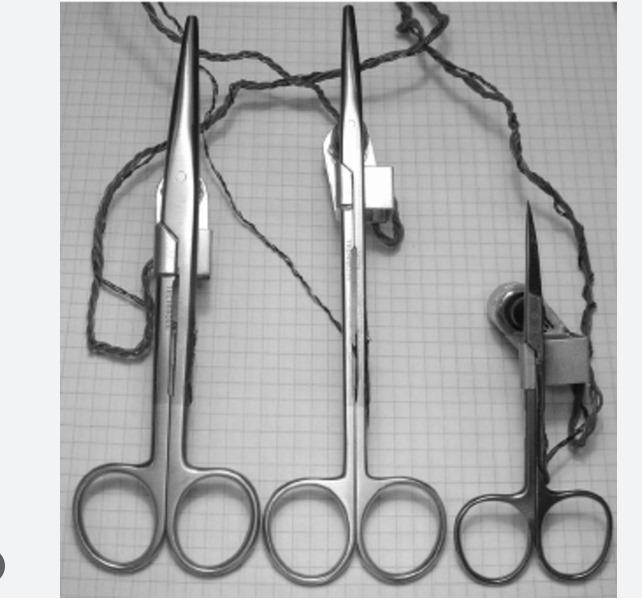Metzenbaum Sciccors: (268, 9, 455, 592)
